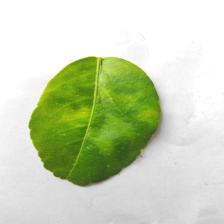greening: (55, 79, 136, 178)
